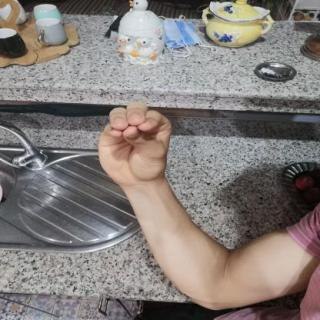HA: (85, 92, 188, 196)
